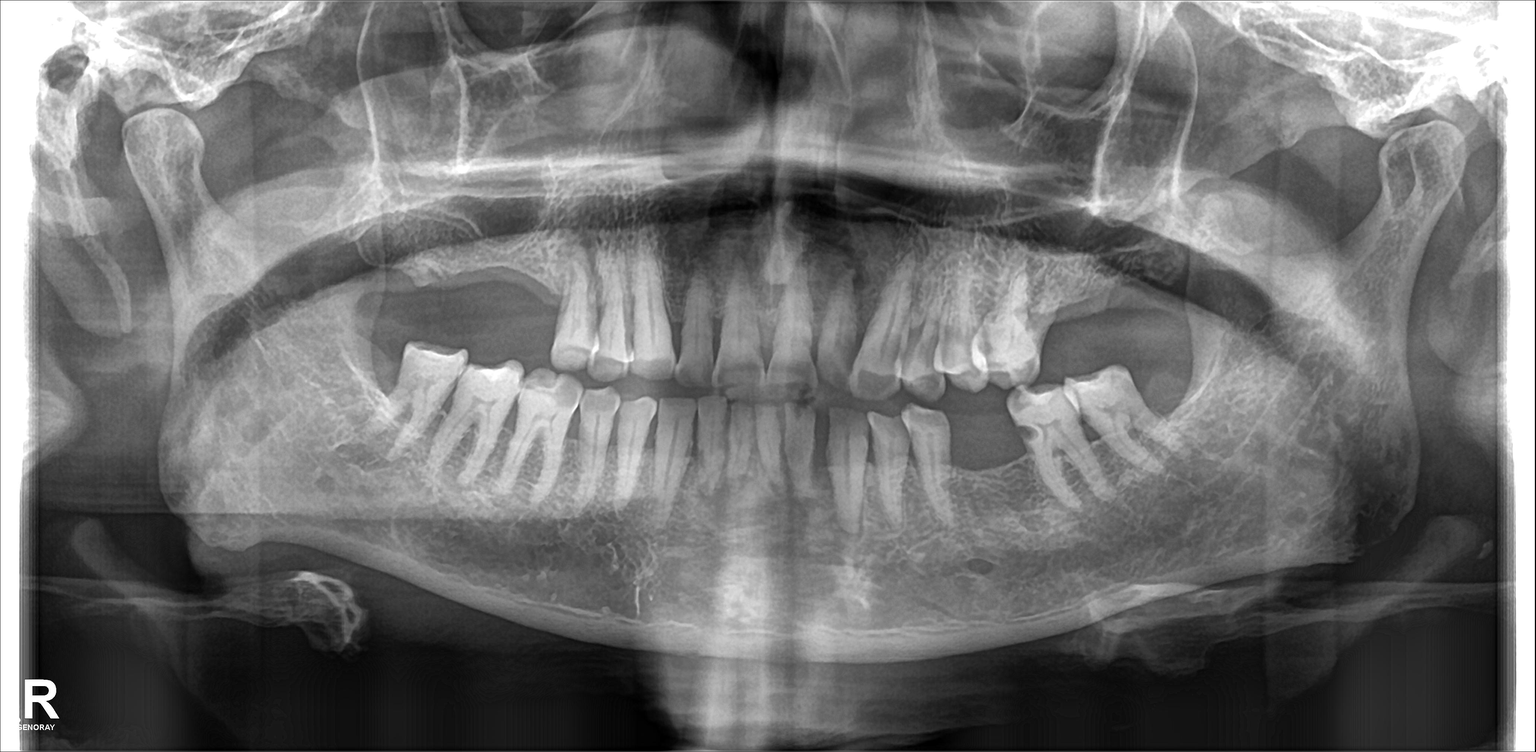Missing Tooth: (944, 404, 1010, 495), (378, 240, 432, 326), (482, 240, 521, 341), (430, 242, 471, 332), (1065, 261, 1105, 350), (1112, 255, 1147, 356), (1155, 251, 1189, 344), (529, 255, 560, 352), (365, 337, 402, 407), (1155, 361, 1198, 419)
